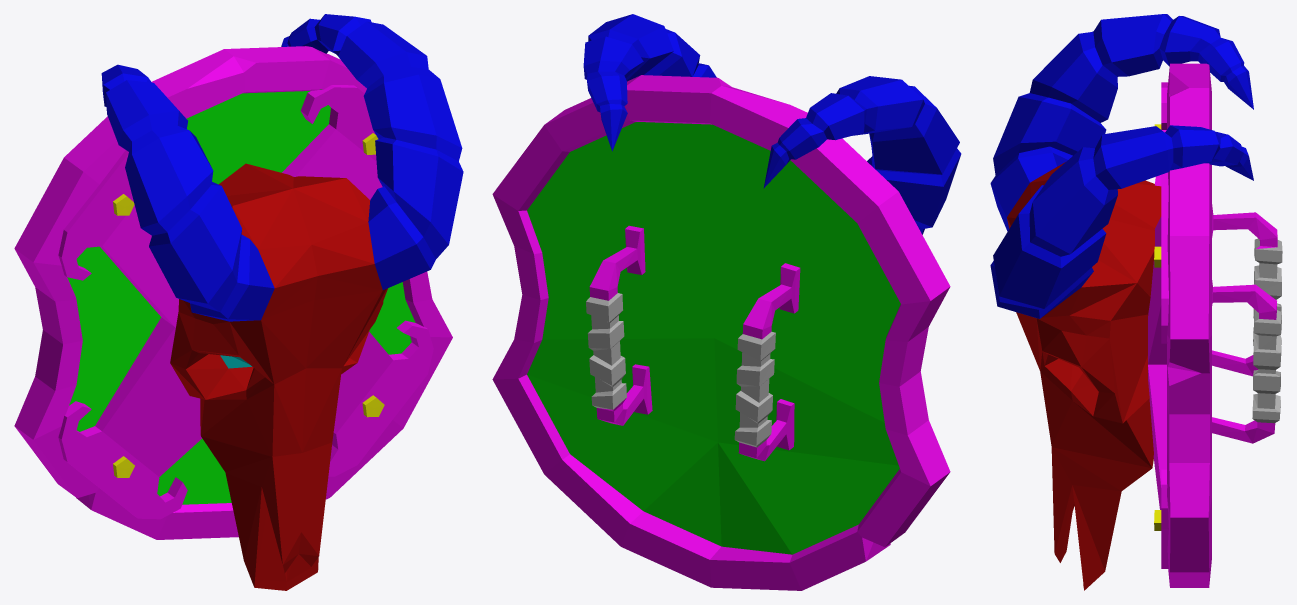
Rendered from Shield_Legendary_Skull.fbx.
3 views of the same model, side by side, from view 1: azimuth 30°, elevation 25°; view 2: azimuth 150°, elevation 25°; view 3: azimuth 270°, elevation 25° (orthographic). The views are drawn at different scales.
Parts seen in each view (by area): view 1: SM_Wep_Shield_Skull_01; view 2: SM_Wep_Shield_Skull_01; view 3: SM_Wep_Shield_Skull_01.
Boxes of the visible parts, <box> form: SM_Wep_Shield_Skull_01: <box>14,14,463,590</box>; SM_Wep_Shield_Skull_01: <box>492,14,961,590</box>; SM_Wep_Shield_Skull_01: <box>990,14,1282,590</box>.
Size of the model in its own units: 0.6979 by 0.8123 by 0.4188.
